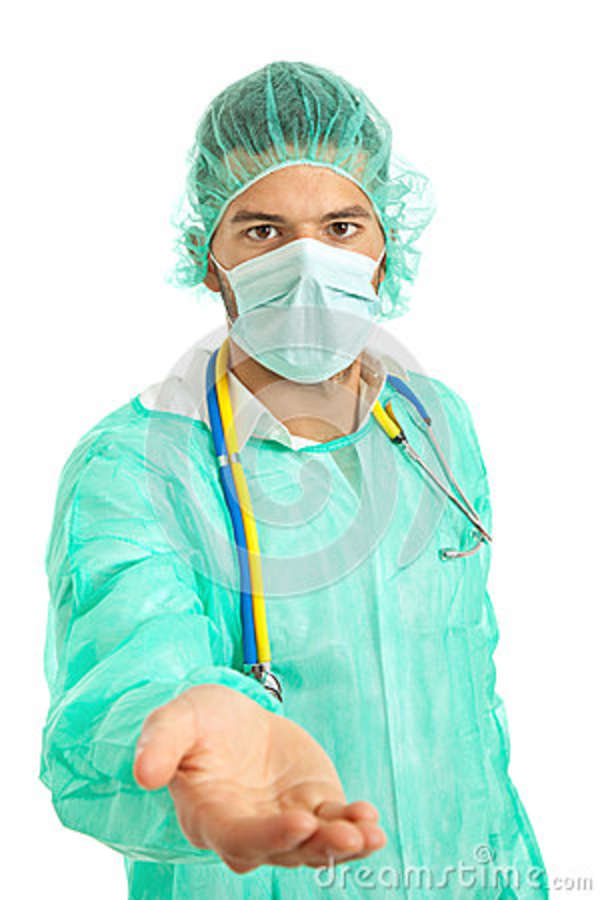mask: (229, 253, 393, 368)
